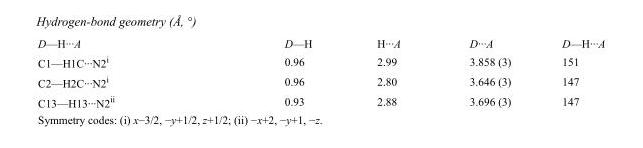table: (37, 36, 604, 108)
table column: (37, 36, 198, 108), (198, 36, 343, 108), (434, 36, 535, 108), (343, 36, 434, 108), (535, 36, 604, 108)
table row: (37, 51, 604, 71), (37, 71, 604, 91), (37, 91, 604, 108), (37, 36, 604, 51)
